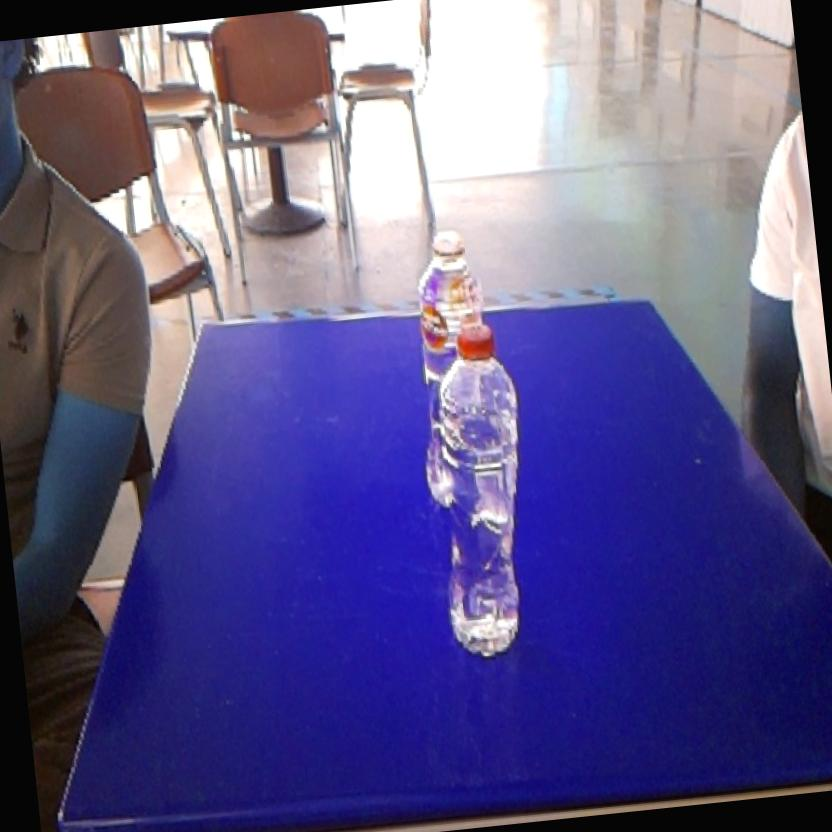no_cap: (402, 218, 496, 322)
no_label: (413, 317, 549, 668)
